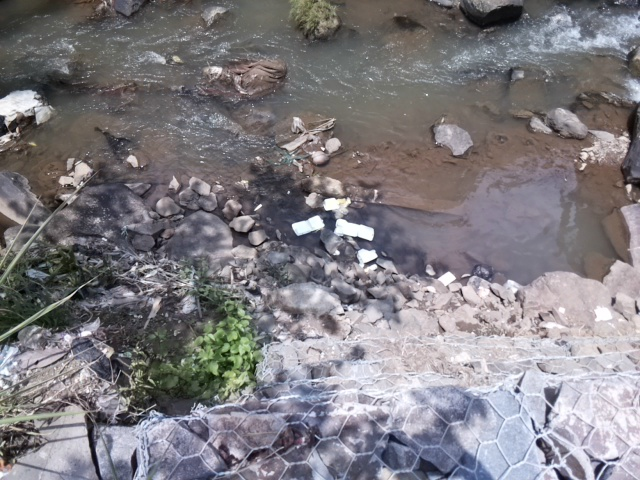Sampah_Plastik: (1, 86, 41, 127), (471, 262, 493, 280)
Sampah_Styrofoam: (335, 218, 376, 243), (289, 212, 327, 237), (355, 247, 379, 264), (436, 271, 456, 288), (323, 197, 341, 211)
